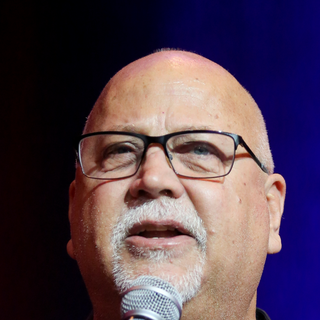eye: (174, 142, 221, 163), (99, 142, 141, 164)
